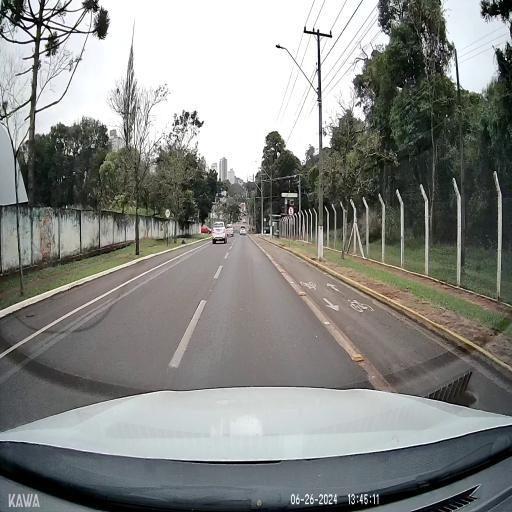R-19: (165, 208, 170, 218)
R-6a: (288, 206, 294, 216)
